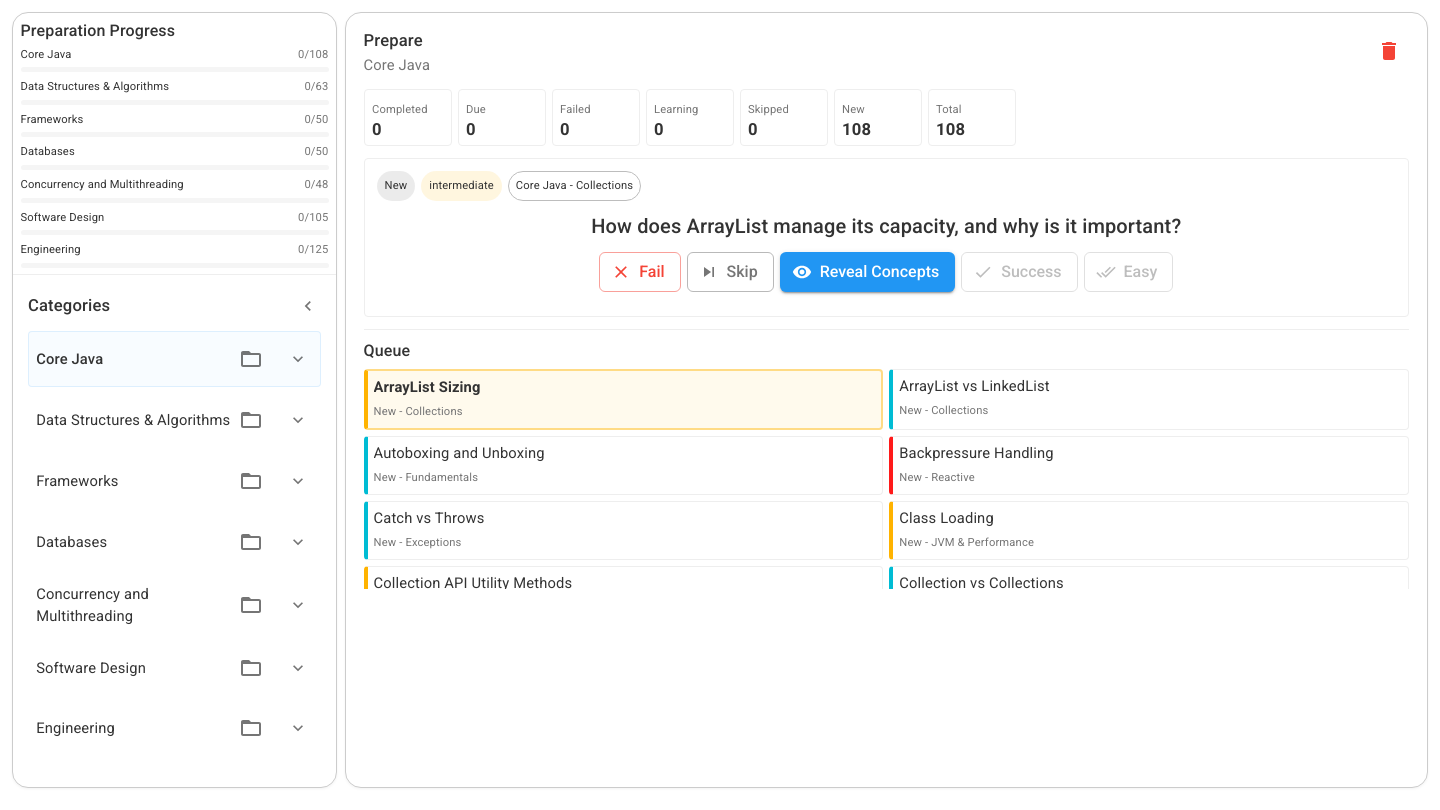
Test: PreparationPanel › fail records progress and advances to another question without reveal
Expected: the heading "How does ArrayList manage its capacity, and why is it important?" is shown, [591, 214, 1181, 238]
Click the button "Fail" at point(640, 272), box [599, 252, 680, 292]
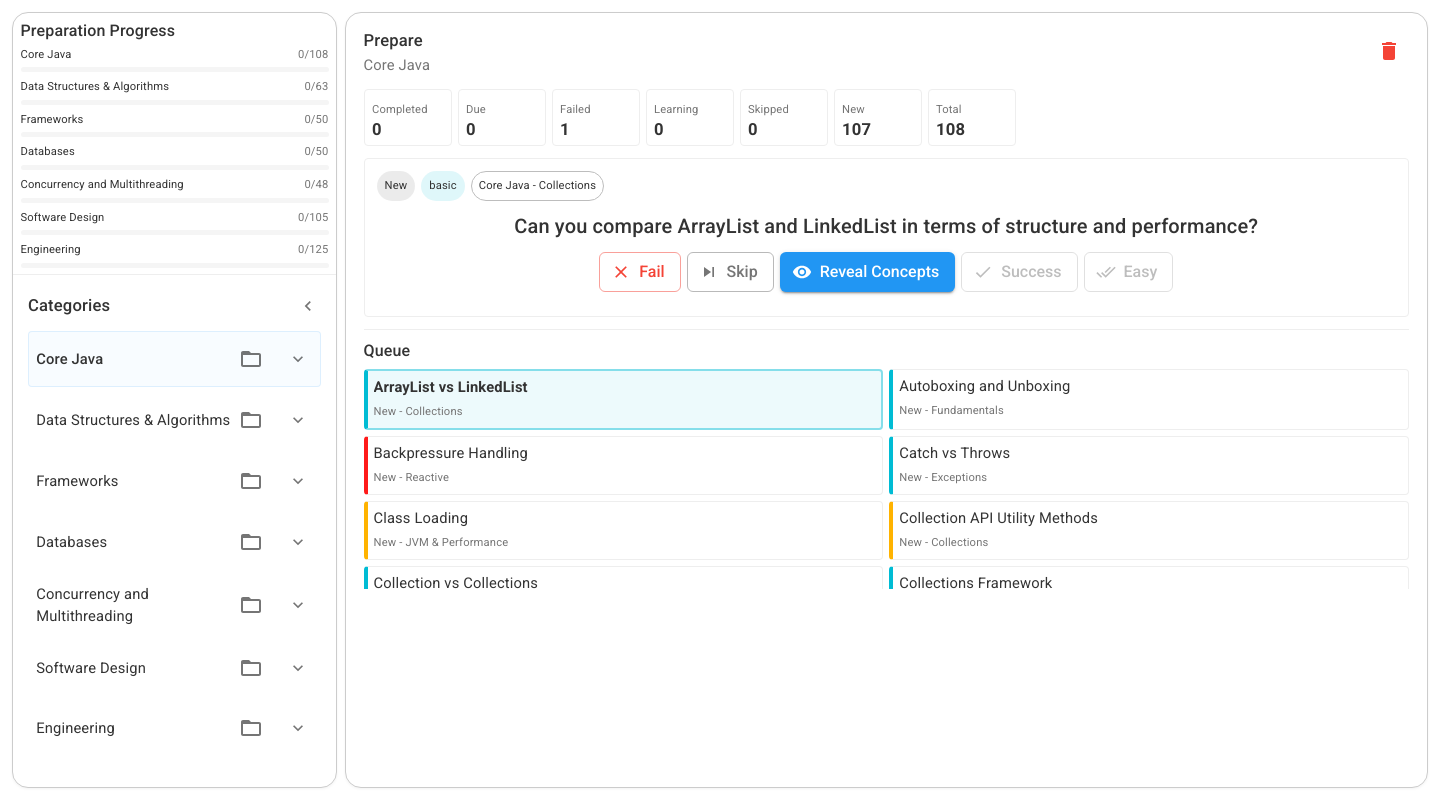
Now the heading "Can you compare ArrayList and LinkedList in terms of structure and performance?" is shown, box [514, 214, 1258, 238]
Now the element labelled "Failed 1" is shown, box [552, 88, 640, 146]
